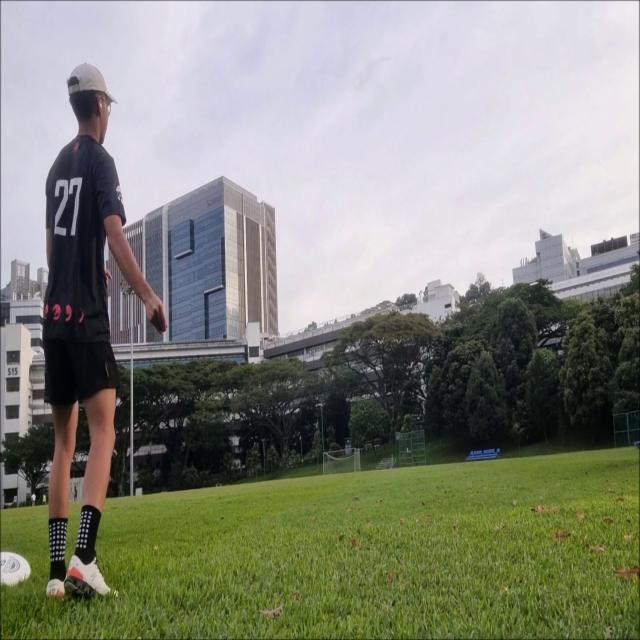disc: (528, 281, 538, 287)
